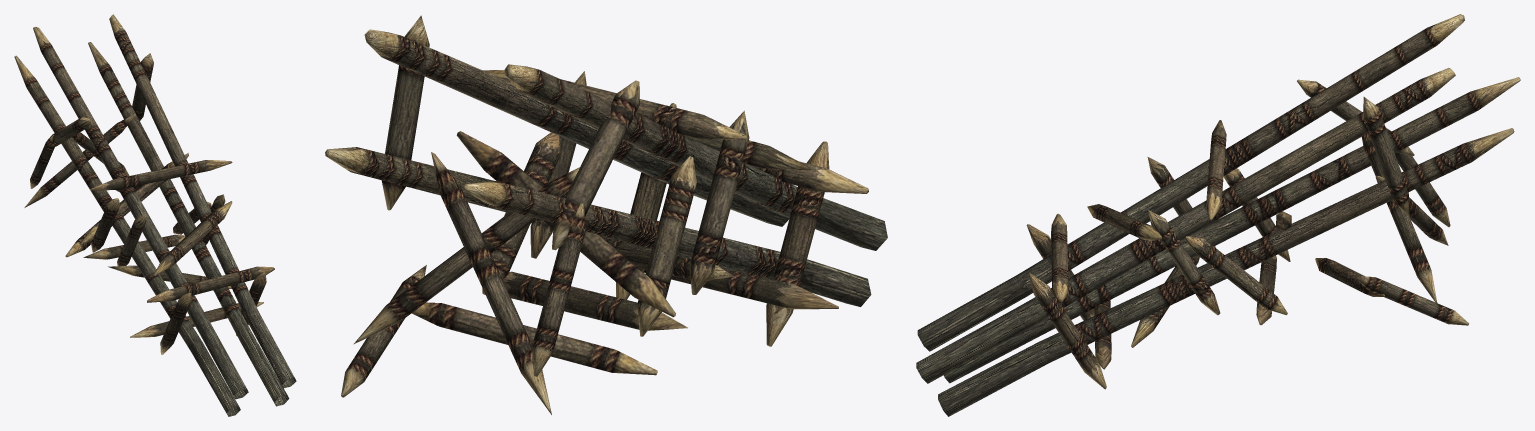
The model's file is gaint_pillar00_d.fbx.
The picture shows the model from 3 angles, left to right: view 1: azimuth 30°, elevation 25°; view 2: azimuth 150°, elevation 25°; view 3: azimuth 270°, elevation 25°; orthographic projection. The views are drawn at different scales.
Visible parts, largest first — view 1: gaint_pillar00; view 2: gaint_pillar00; view 3: gaint_pillar00.
Part boxes in pixels (x1,y1,x2,y2): gaint_pillar00: (14, 14, 296, 416); gaint_pillar00: (325, 15, 887, 414); gaint_pillar00: (916, 14, 1520, 416).
Size of the model in its own units: 5.19 by 9.11 by 13.88.
